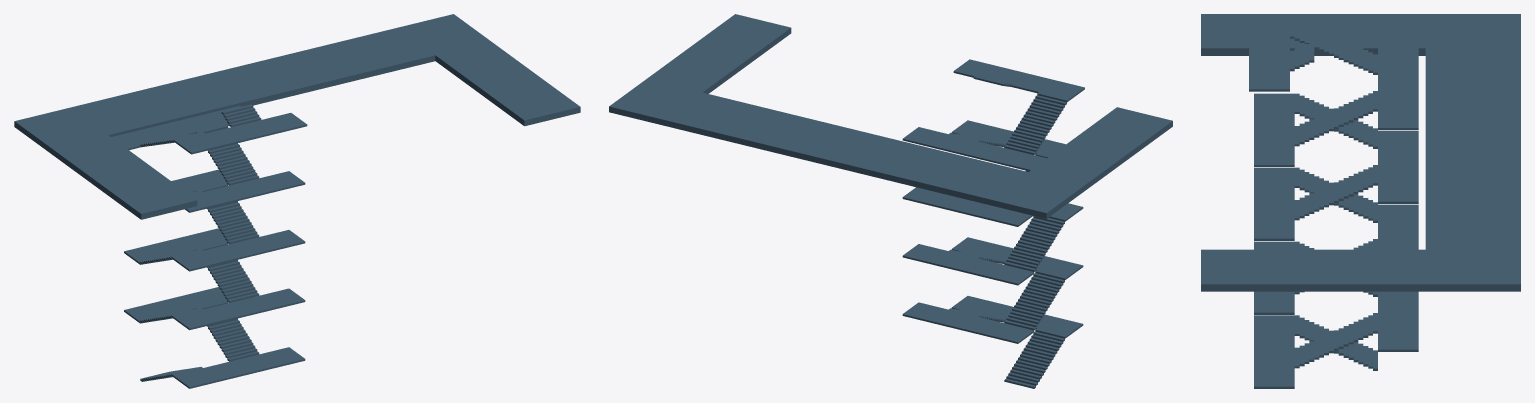
The model's file is v02-00-03-deck.glb.
3 views of the same model, side by side, from view 1: azimuth 30°, elevation 25°; view 2: azimuth 150°, elevation 25°; view 3: azimuth 270°, elevation 25° (orthographic). The views are drawn at different scales.
Parts seen in each view (by area): view 1: v02-00-03-deck; view 2: v02-00-03-deck; view 3: v02-00-03-deck.
Boxes of the visible parts, x1,y1,x2,y2 form: v02-00-03-deck: (14, 14, 580, 388); v02-00-03-deck: (609, 14, 1172, 388); v02-00-03-deck: (1201, 14, 1520, 388).
Bounding box in the file's own units: 47 × 27.98 × 23.5.
